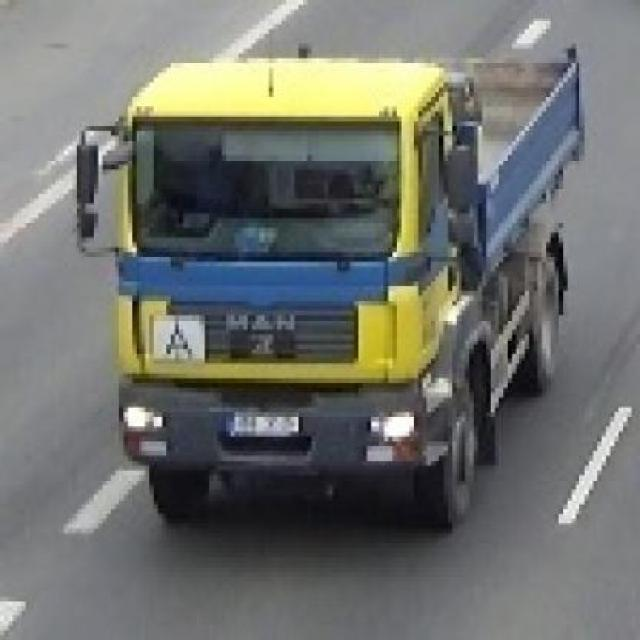truck: (78, 45, 590, 525)
